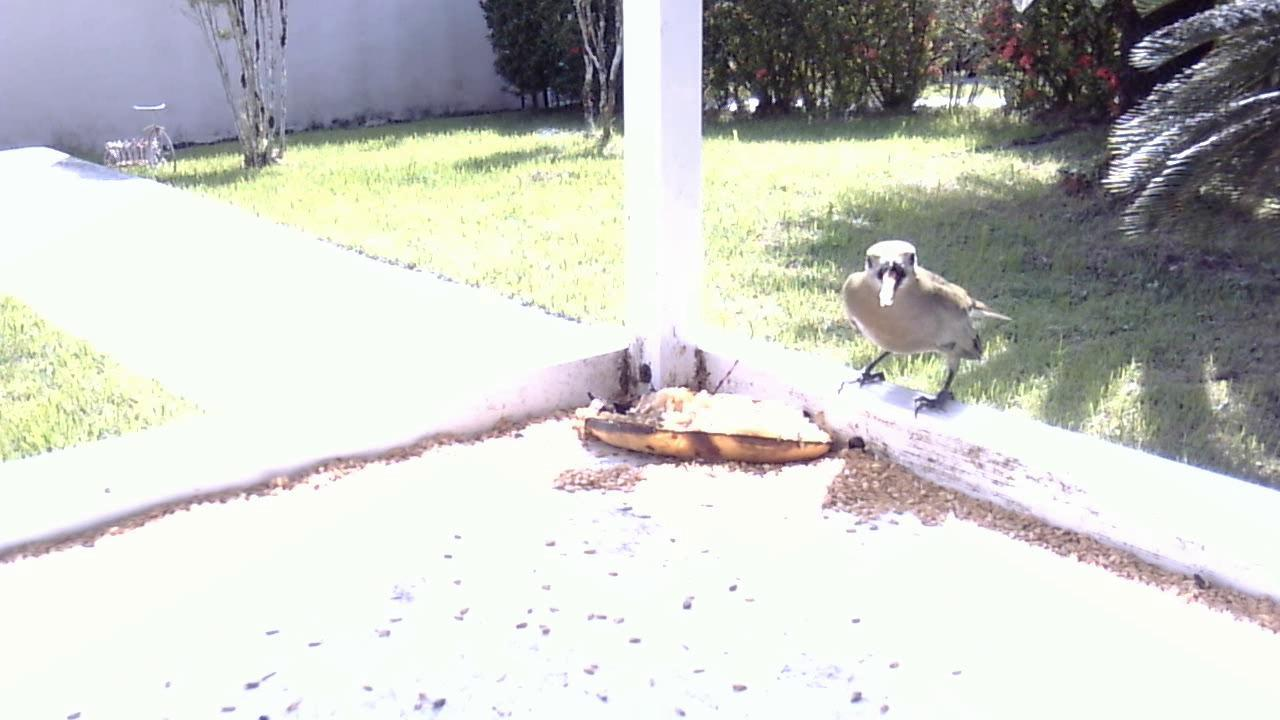sanhaco_do_coqueiro: (835, 231, 1021, 428)
